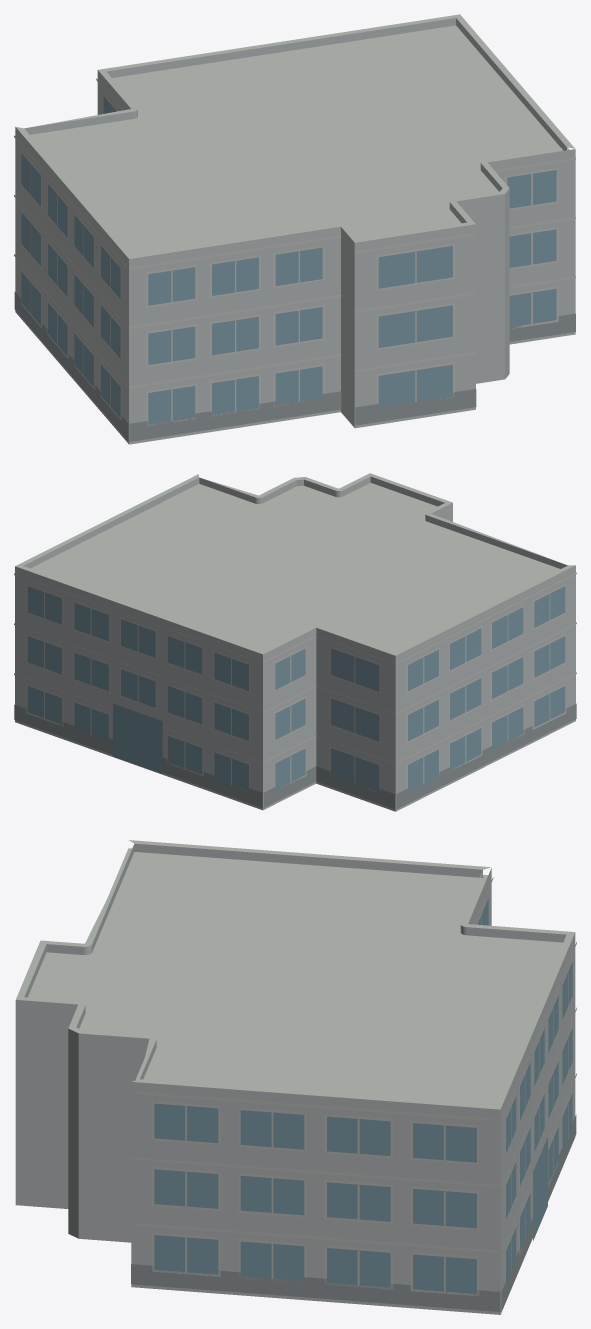
File: public-65412e30-ed47-4693-86d2-029ec194c8af.glb
3 views of the same model, one above another, from view 1: azimuth 30°, elevation 25°; view 2: azimuth 150°, elevation 25°; view 3: azimuth 270°, elevation 25° (orthographic). The views are drawn at different scales.
Visible parts, largest first — view 1: public-65412e30-ed47-4693-86d2-029ec194c8af; view 2: public-65412e30-ed47-4693-86d2-029ec194c8af; view 3: public-65412e30-ed47-4693-86d2-029ec194c8af.
Boxes of the visible parts, left/top/right/bottom form: public-65412e30-ed47-4693-86d2-029ec194c8af: left=14, top=14, right=575, bottom=444; public-65412e30-ed47-4693-86d2-029ec194c8af: left=14, top=473, right=576, bottom=811; public-65412e30-ed47-4693-86d2-029ec194c8af: left=15, top=840, right=576, bottom=1314.
Size of the model in its own units: 25.9 by 9.15 by 22.74.
